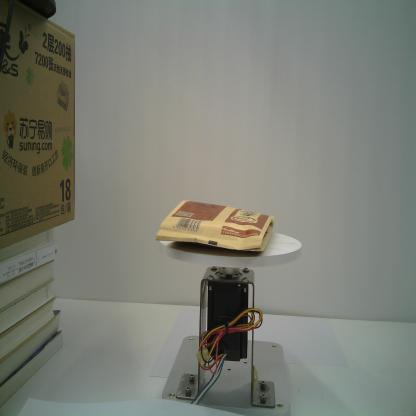Dried Food: (154, 198, 274, 255)
